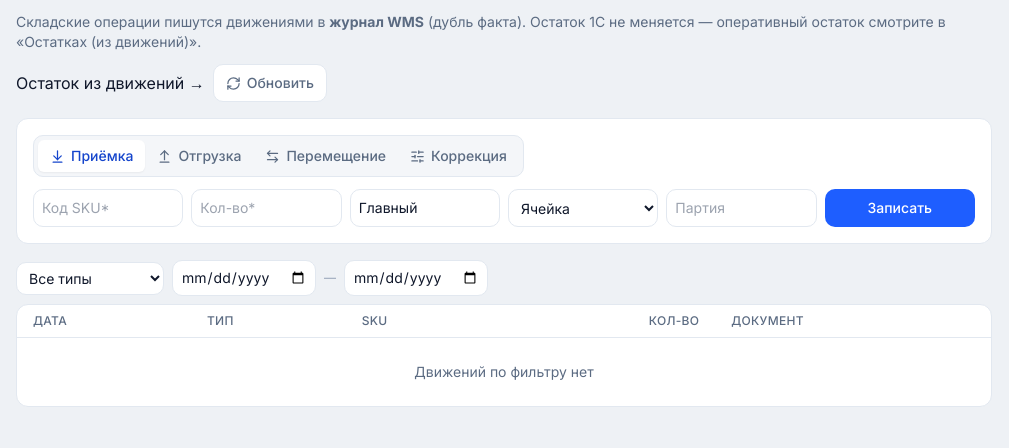
Test: WmsMovements › сбой записи показывает ошибку и НЕ обновляет журнал
Type "6СТ-190" into the field with placeholder "Код SKU*" at (108, 208), box [33,189,183,227]
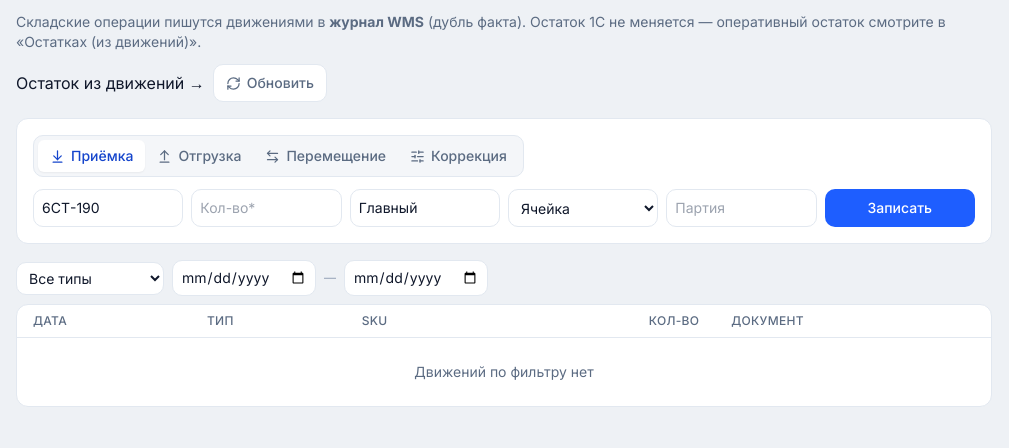
Type "5" into the field with placeholder "Кол-во*" at (266, 208), box [191,189,342,227]
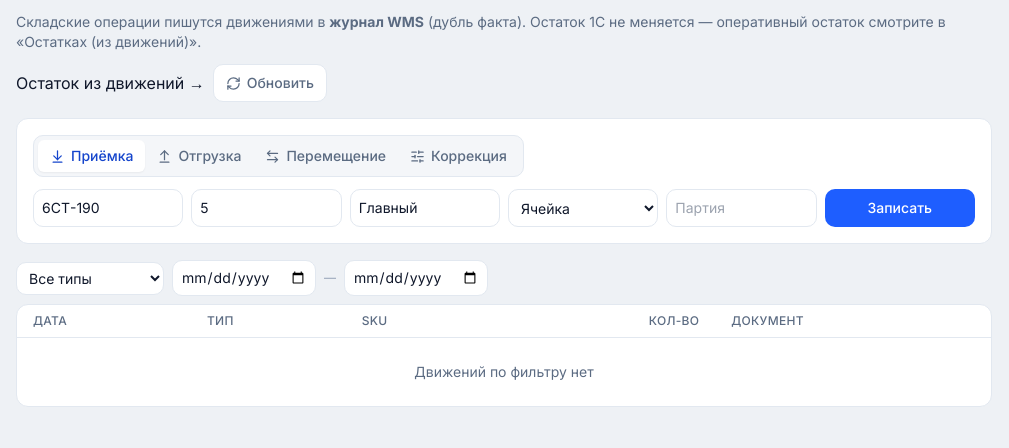
Click the button "Записать" at (900, 208), box [825,189,975,227]
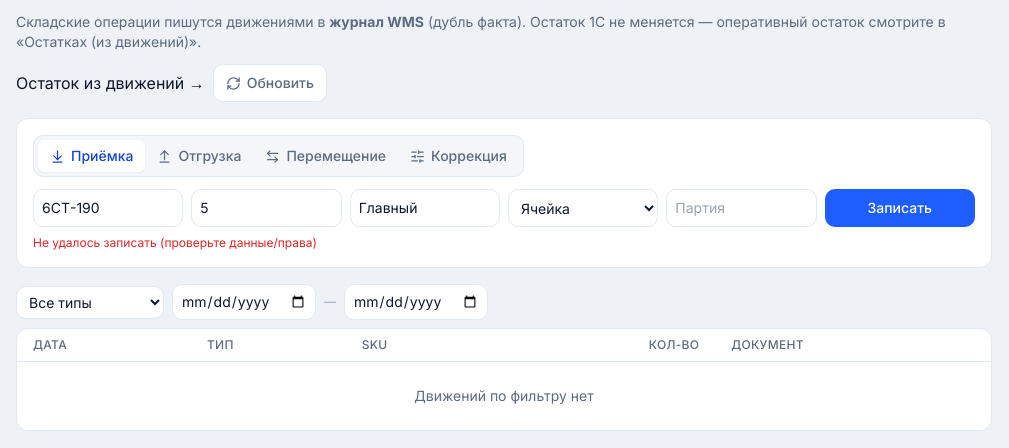
Now the text "Не удалось записать (проверьте данные/права)" is shown, box [33,235,317,250]
